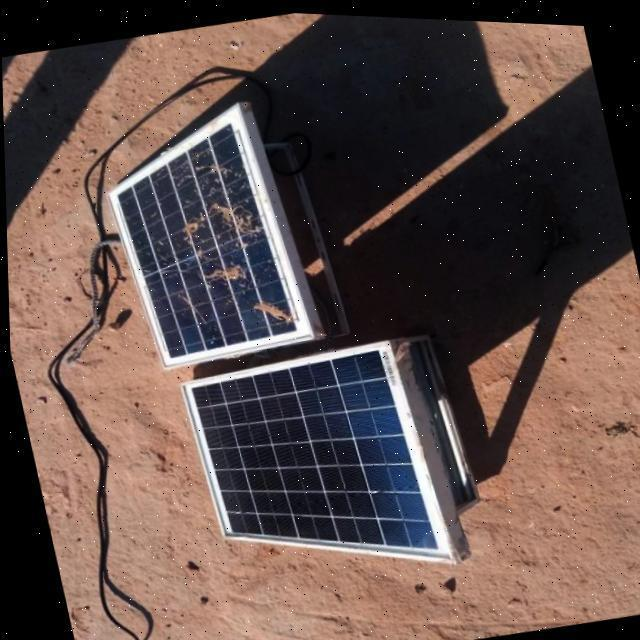Normal Solar Panel: (176, 326, 453, 600)
